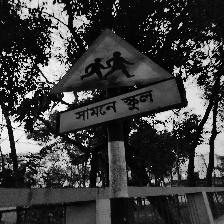School-in-front: (48, 28, 185, 135)
